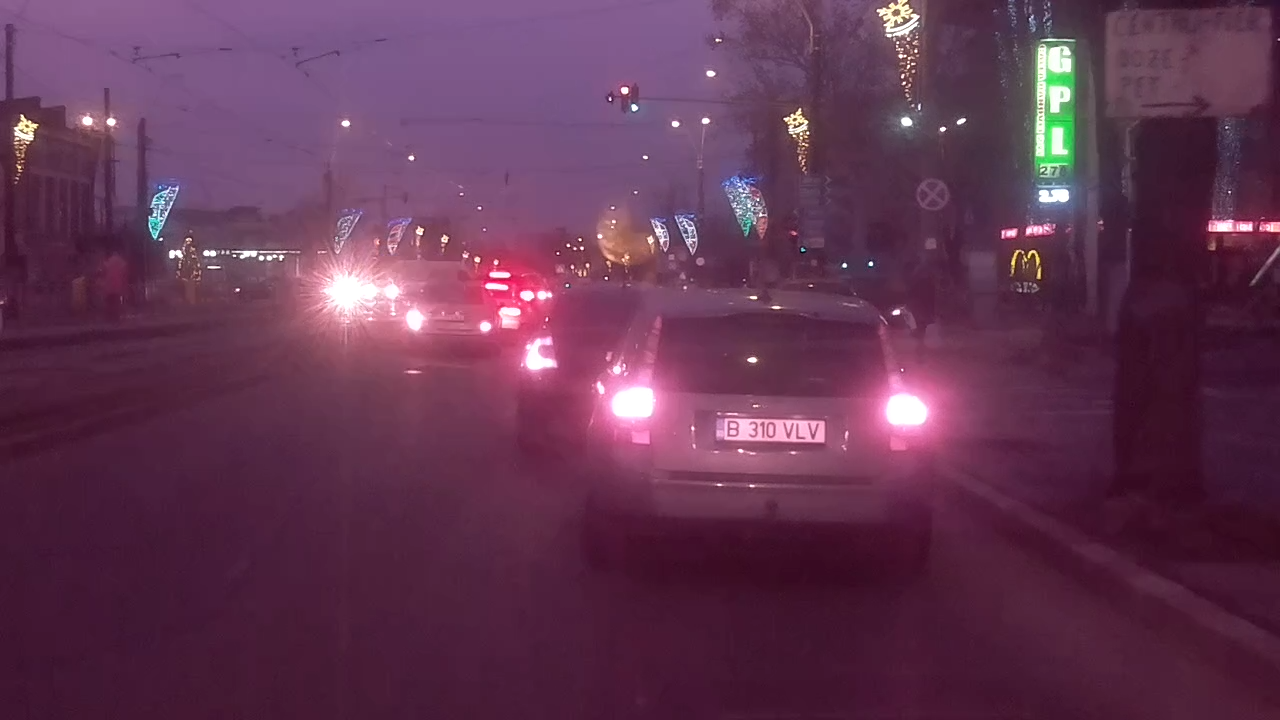license-plate: (712, 413, 830, 448)
